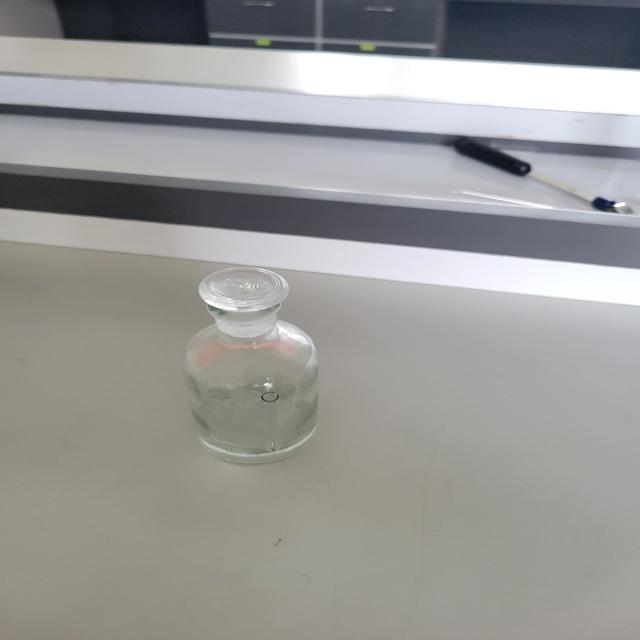Reagent_Bottle: (132, 221, 360, 490)
